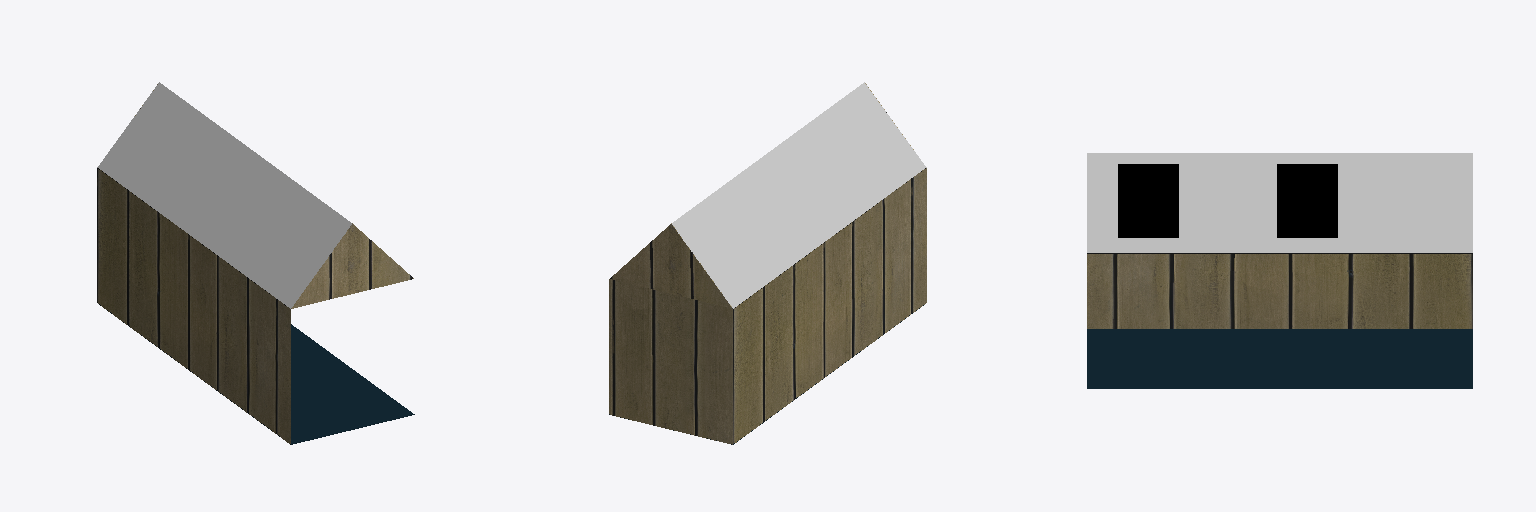
3 renders of one model, left to right at view 1: azimuth 30°, elevation 25°; view 2: azimuth 150°, elevation 25°; view 3: azimuth 270°, elevation 25°, orthographic.
Visible parts, largest first — view 1: House, Roof, Floor; view 2: House, Roof; view 3: Roof, House, Floor, Window.002, Window.001.
Part boxes in pixels (bbox=[...]): House: bbox=[97, 84, 413, 443]; Roof: bbox=[97, 82, 351, 308]; Floor: bbox=[99, 304, 414, 444]; House: bbox=[609, 83, 926, 444]; Roof: bbox=[672, 82, 926, 308]; Roof: bbox=[1087, 153, 1472, 252]; House: bbox=[1087, 253, 1472, 328]; Floor: bbox=[1087, 329, 1472, 388]; Window.002: bbox=[1118, 164, 1178, 237]; Window.001: bbox=[1277, 164, 1337, 237].
Size of the model in its own units: 2.45 by 3.91 by 6.64.
Materials: 4 (1 with a texture image).